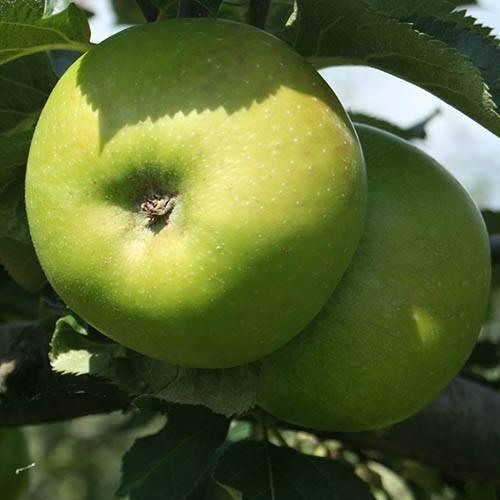apple: (19, 15, 369, 368), (232, 120, 493, 430)
